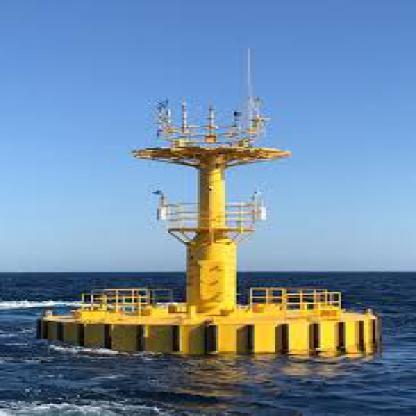buoy: (16, 41, 393, 364)
